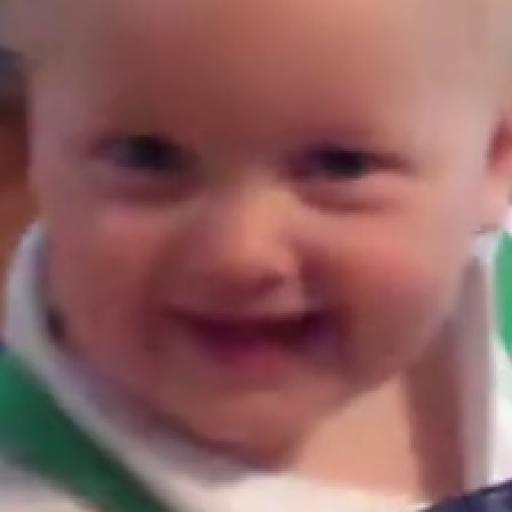Autism: (44, 0, 476, 482)
